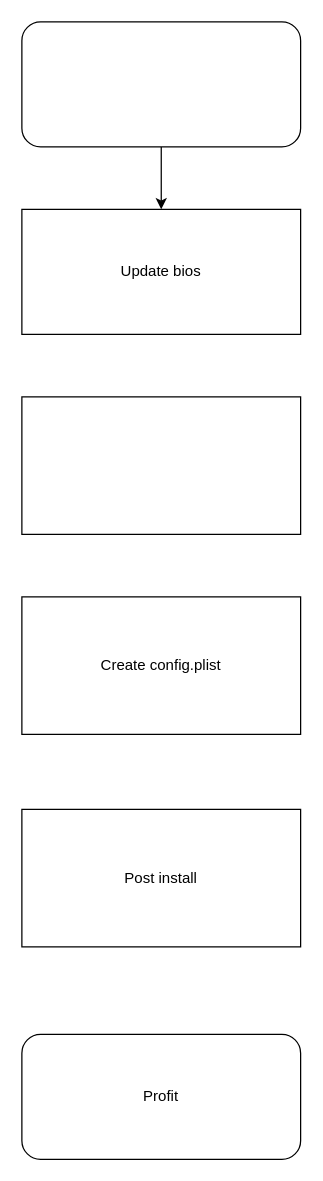
This 323x1181 diagram has some shape labels left out. Each missing label, with the centre of its shape:
"Create USB" belongs at pixel 161 465.
"Start" belongs at pixel 161 84.
